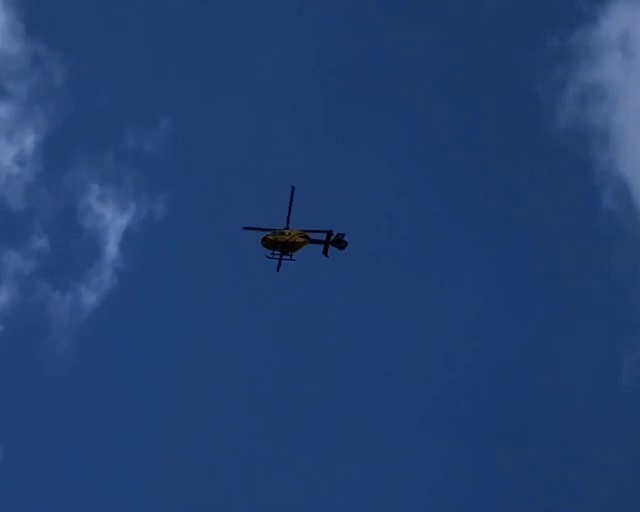HELICOPTER: (242, 185, 347, 273)
